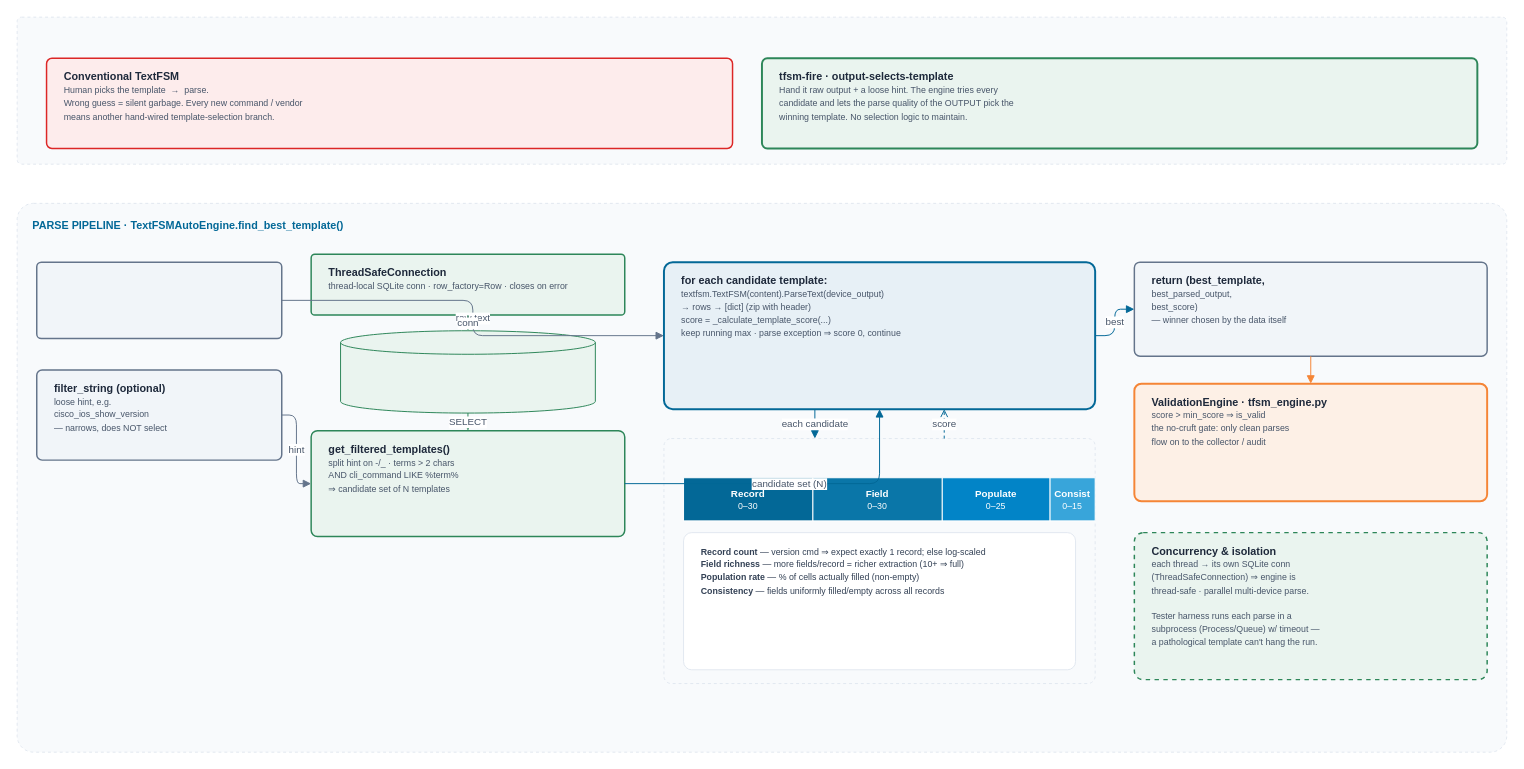
Image size: 1524x769. Some labels were removed from this diagram. Here are the shapes that lost their labels. From the top down, the box of each, then its label:
(16, 16, 1507, 164): THE INVERSION — why tfsm-fire is a different animal
(36, 261, 282, 339): device_output raw CLI text (one device, one command)
(340, 330, 595, 413): Template DB templates(cli_command, textfsm_content) · 212 rows
(663, 438, 1095, 684): SCORING · _calculate_template_score() → 0–100 (highest wins)
